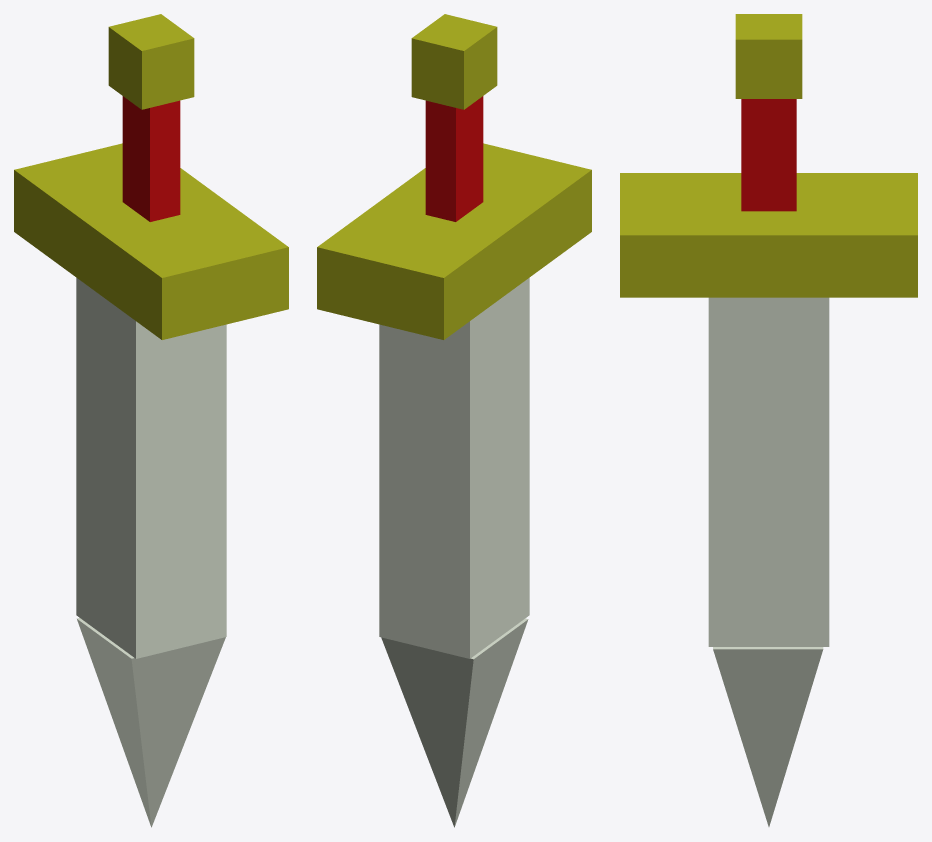
File: blade.obj
3 renders of one model, left to right at view 1: azimuth 30°, elevation 25°; view 2: azimuth 150°, elevation 25°; view 3: azimuth 270°, elevation 25°, orthographic.
Visible parts, largest first — view 1: Cube_Material, 立方体_材质, 锥体_材质.001, 立方体.002_材质.003, 立方体.001_材质.002; view 2: Cube_Material, 立方体_材质, 锥体_材质.001, 立方体.002_材质.003, 立方体.001_材质.002; view 3: Cube_Material, 立方体_材质, 锥体_材质.001, 立方体.001_材质.002, 立方体.002_材质.003.
Boxes of the visible parts, box(x1,y1,x2,y2) form: Cube_Material: box(76, 278, 226, 658); 立方体_材质: box(14, 143, 288, 339); 锥体_材质.001: box(77, 618, 225, 827); 立方体.002_材质.003: box(108, 14, 194, 109); 立方体.001_材质.002: box(122, 96, 180, 221); Cube_Material: box(379, 278, 529, 658); 立方体_材质: box(317, 143, 591, 339); 锥体_材质.001: box(381, 618, 528, 827); 立方体.002_材质.003: box(411, 14, 497, 109); 立方体.001_材质.002: box(425, 96, 483, 221); Cube_Material: box(708, 297, 829, 646); 立方体_材质: box(620, 173, 917, 297); 锥体_材质.001: box(713, 647, 823, 826); 立方体.001_材质.002: box(741, 99, 796, 211); 立方体.002_材质.003: box(735, 14, 802, 98).
Size of the model in its own units: 1.32 by 7.92 by 2.67.
